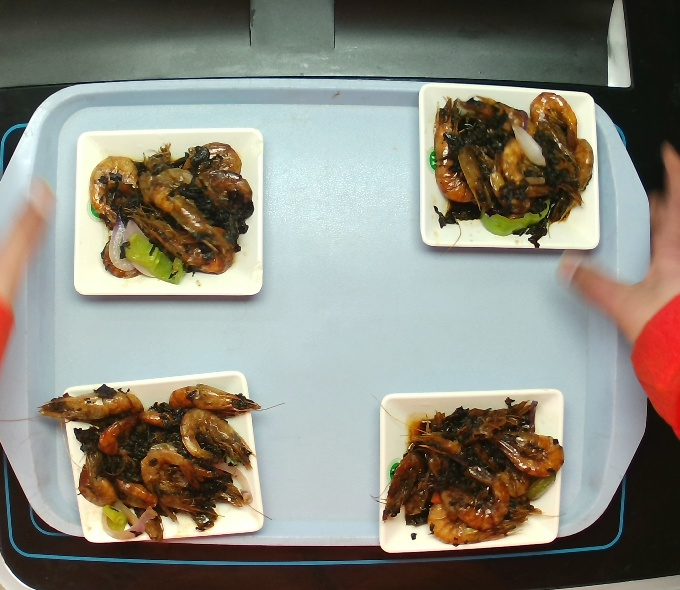wcq-GanCaiXia: (37, 374, 266, 548), (378, 390, 572, 550), (420, 90, 595, 249), (84, 130, 253, 292)
